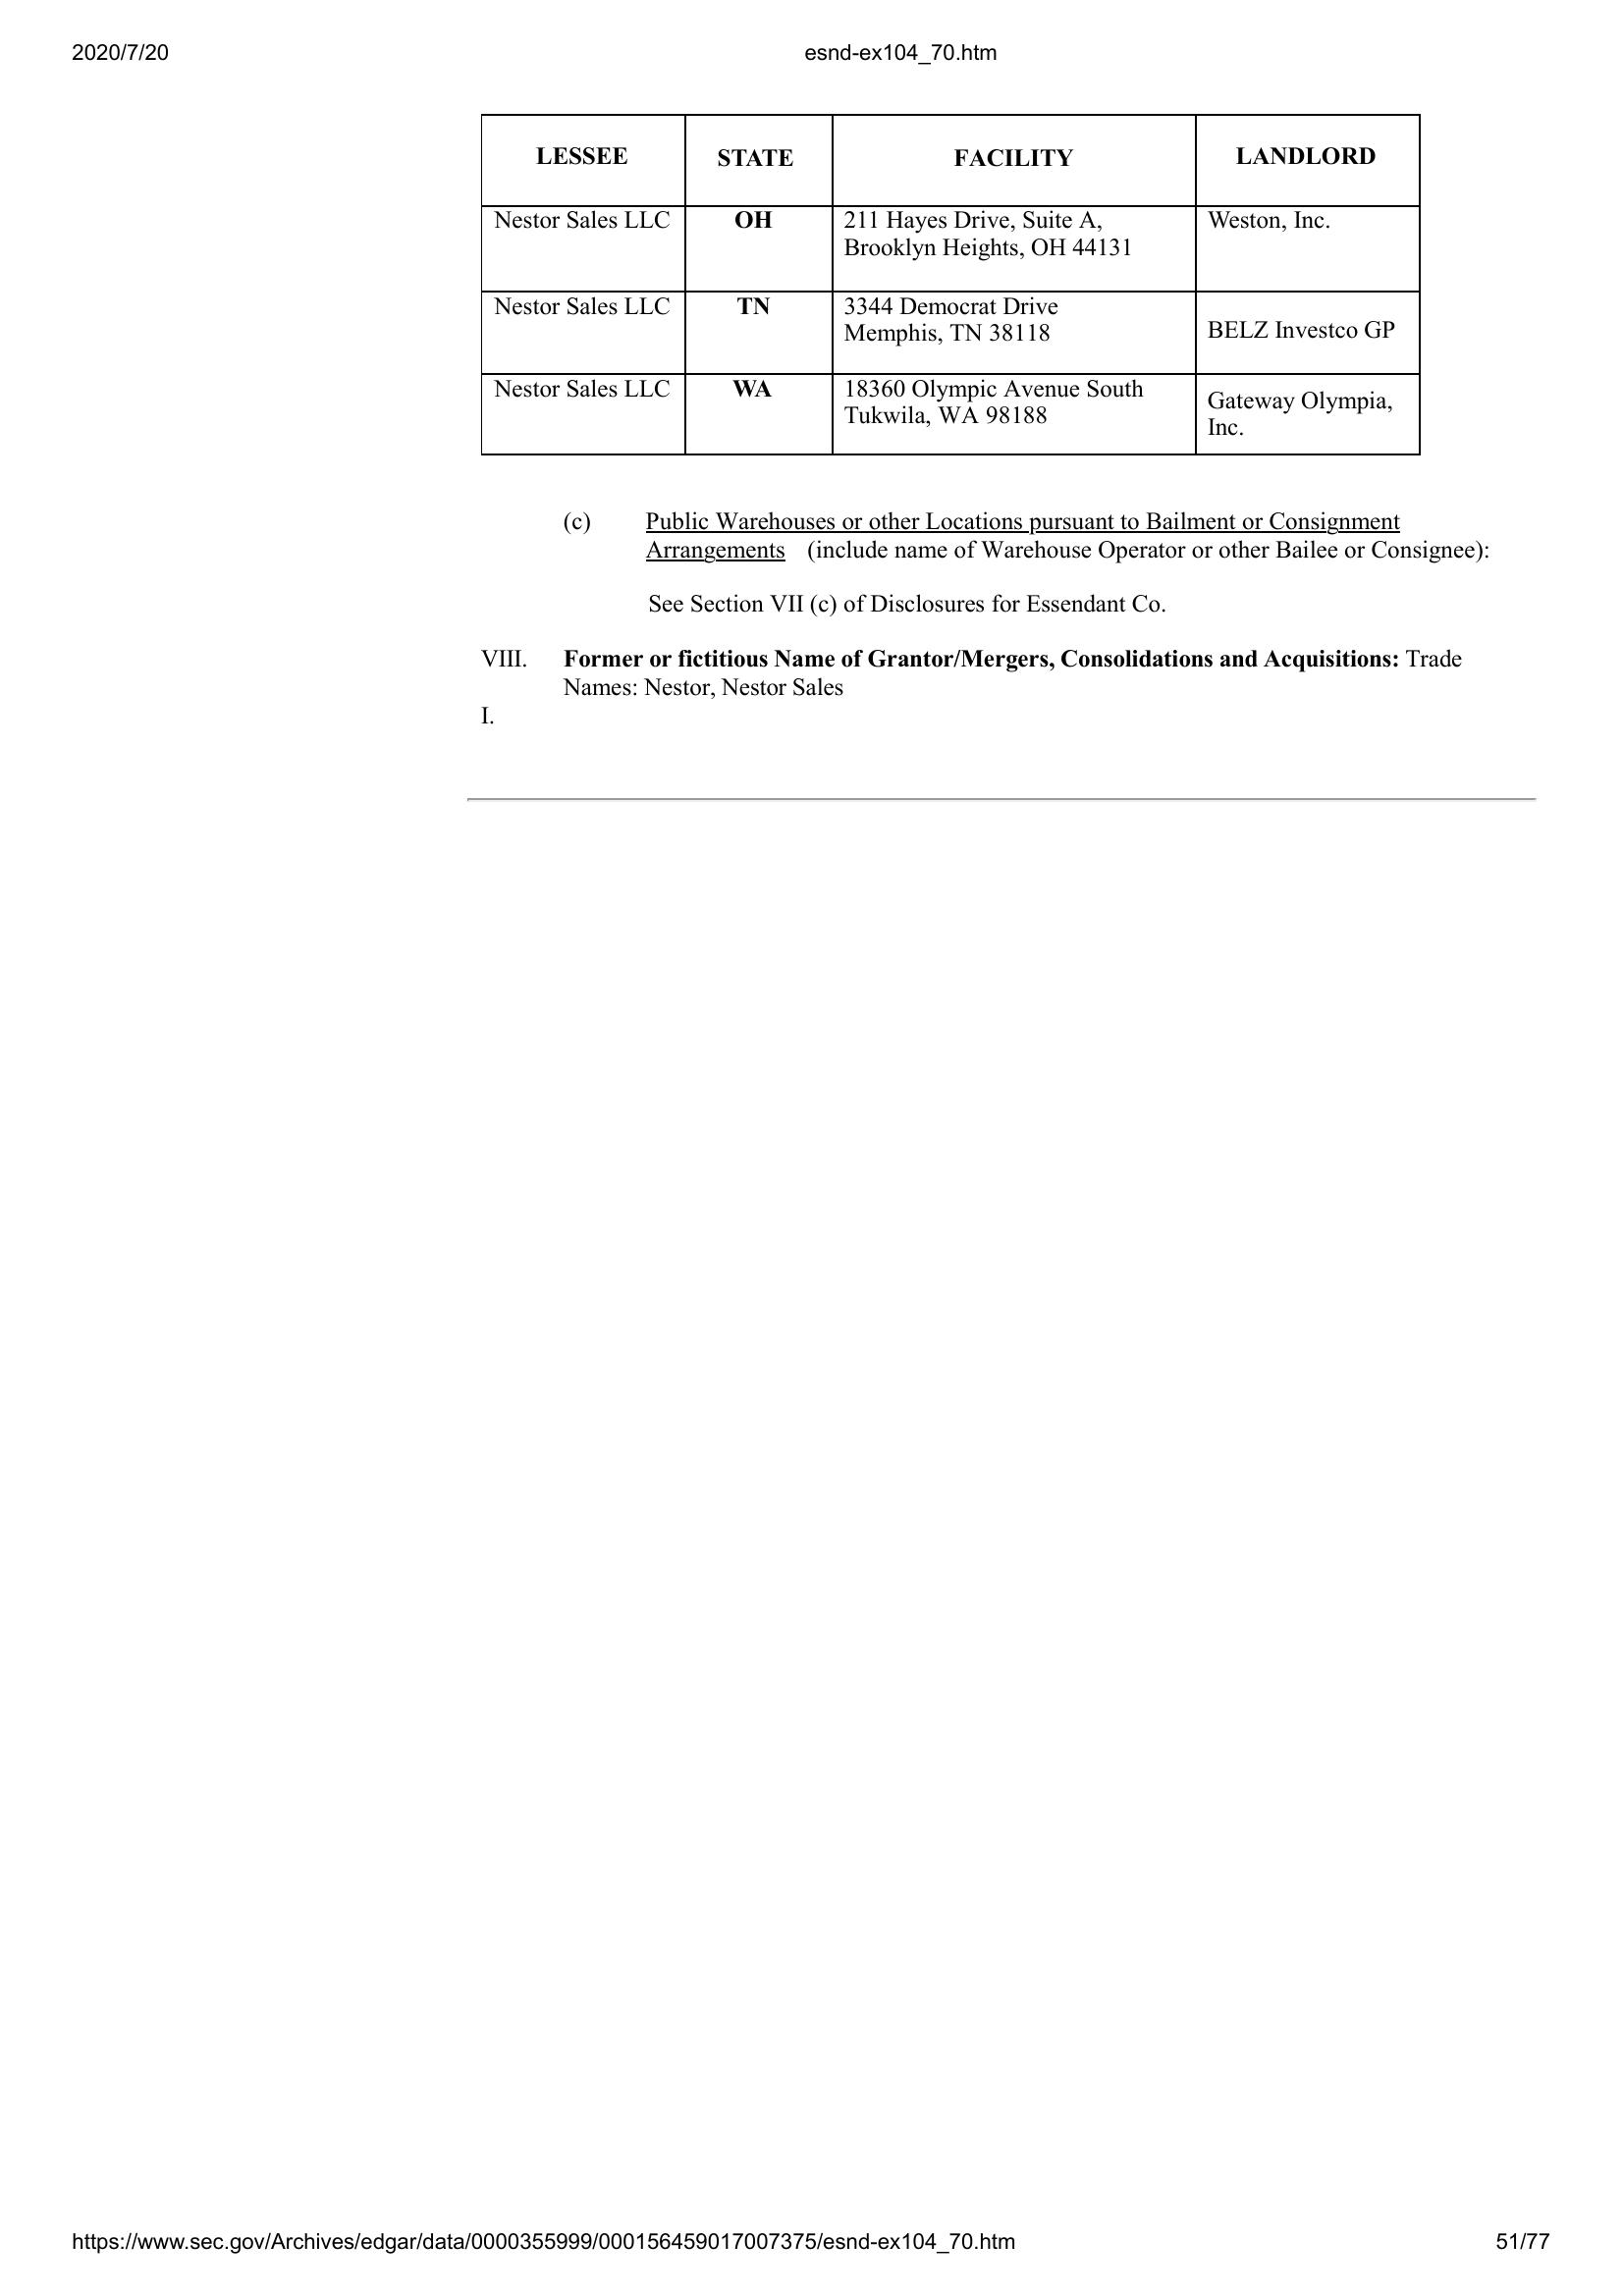table: (471, 109, 1435, 458)
